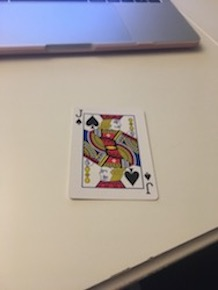JackOfSpades: (59, 101, 163, 206)
